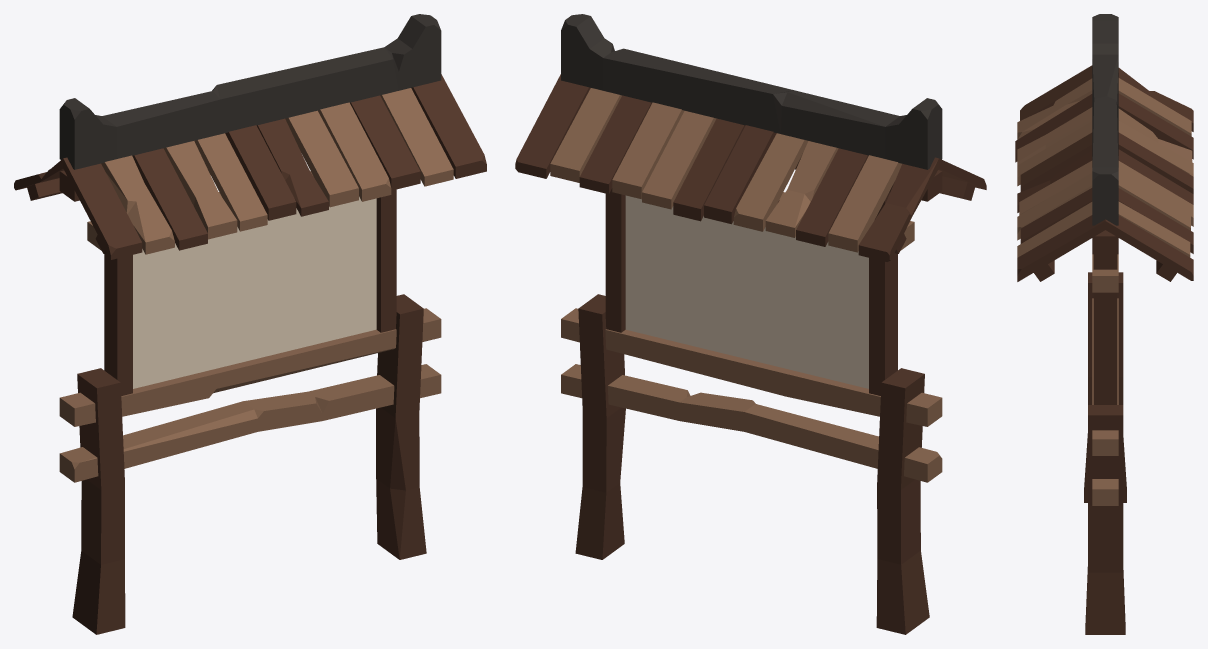
Rendered from Wooden Board Asia.fbx.
3 renders of one model, left to right at view 1: azimuth 30°, elevation 25°; view 2: azimuth 150°, elevation 25°; view 3: azimuth 270°, elevation 25°, orthographic. The views are drawn at different scales.
Visible parts, largest first — view 1: Wooden Board; view 2: Wooden Board; view 3: Wooden Board.
Boxes of the visible parts, x1,y1,x2,y2 form: Wooden Board: [14, 14, 486, 634]; Wooden Board: [515, 14, 986, 634]; Wooden Board: [1015, 14, 1193, 634].
Bounding box in the file's own units: 1.67 × 2.22 × 0.7667.
